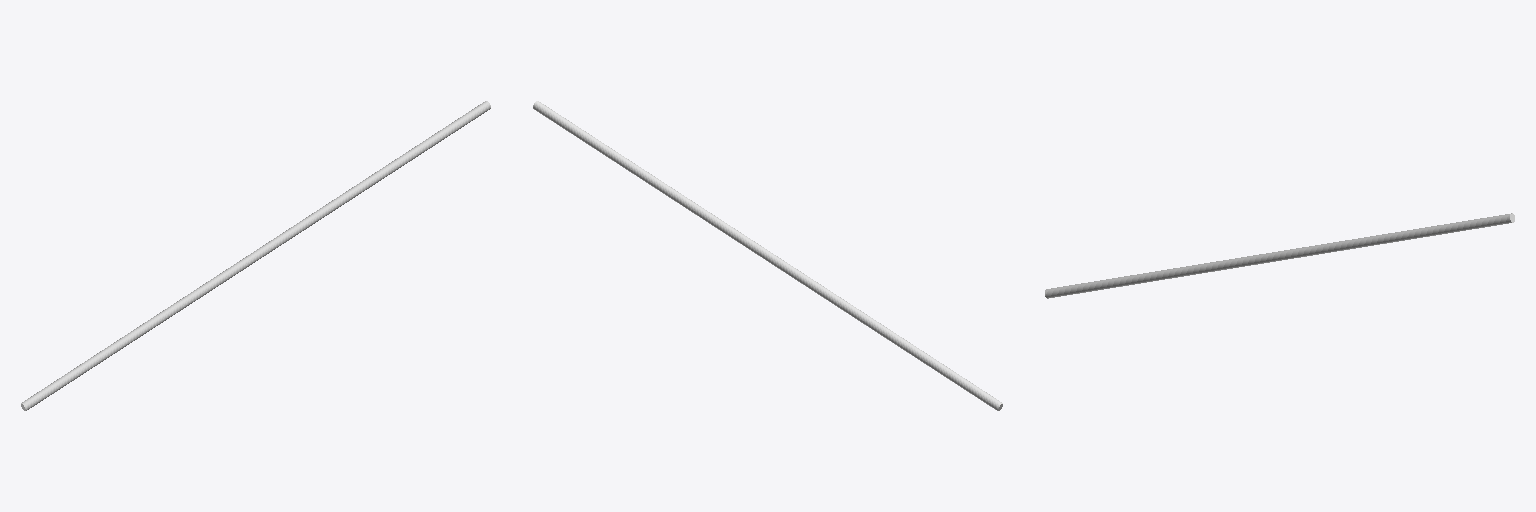
URDF robot description (hook):
<robot name="hook">
<link name="link">
   <inertial>
     <origin xyz="0 0 0" rpy="0 0 0"/>
     <mass value=".0"/>
     <inertia ixx="0"  ixy="0"  ixz="0" iyy="0" iyz="0" izz="0" />
   </inertial>

   <visual>
     <origin xyz="0.1 0 0.02" rpy="0 1.2 0" />
     <geometry>
       <cylinder radius="0.0025" length="0.3"/>
     </geometry>
     <material name="white_gray">
       <color rgba="0.9 0.9 0.9 1"/>
     </material>
   </visual>

   <collision>
     <origin xyz="0.1 0 0.02" rpy="0 1.2 0" />
     <geometry>
       <cylinder radius="0.0025" length="0.3"/>
     </geometry>
   </collision>

 </link>
 </robot>

--- Render facts (derived) ---
The picture shows the robot from 3 angles, left to right: view 1: azimuth 30°, elevation 25°; view 2: azimuth 150°, elevation 25°; view 3: azimuth 330°, elevation 25°; orthographic projection.
Model hook with 1 links and 0 joints (none), rooted at link, posed all joints at 0.
Links seen in each view (by area): view 1: link; view 2: link; view 3: link.
Link boxes in pixels (x1=…): link: x1=21, y1=101, x2=490, y2=410; link: x1=533, y1=101, x2=1002, y2=410; link: x1=1045, y1=213, x2=1514, y2=298.
Size in the robot's own frame: 0.2814 by 0.005 by 0.1134 metres.
Geometry: primitives only (box / cylinder / sphere), no mesh files.
